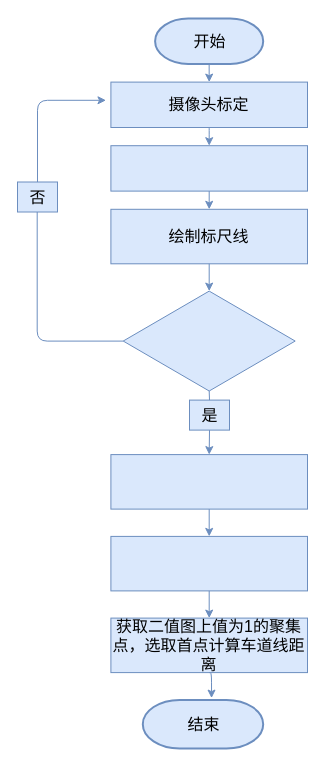
The diagram is 325 pixels wide and 766 high, and some of its shapes have lost their labels. The shapes that lost their labels are listed below. From the top down, each one's box as (x1, y1, x2, y2) in pixels, then its label:
(110, 145, 308, 191): 计算坐标变换矩阵
(122, 290, 295, 391): 标尺线输出成功？
(110, 454, 308, 509): 实时获取图像并转换为灰度图
(110, 535, 308, 591): 将灰度图转换为二值图
